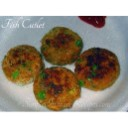cutlet: (78, 48, 121, 93), (35, 67, 80, 109), (3, 44, 43, 86), (42, 28, 83, 65)
